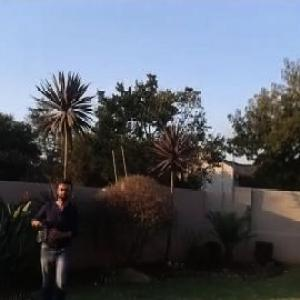follow: (21, 171, 90, 299)
